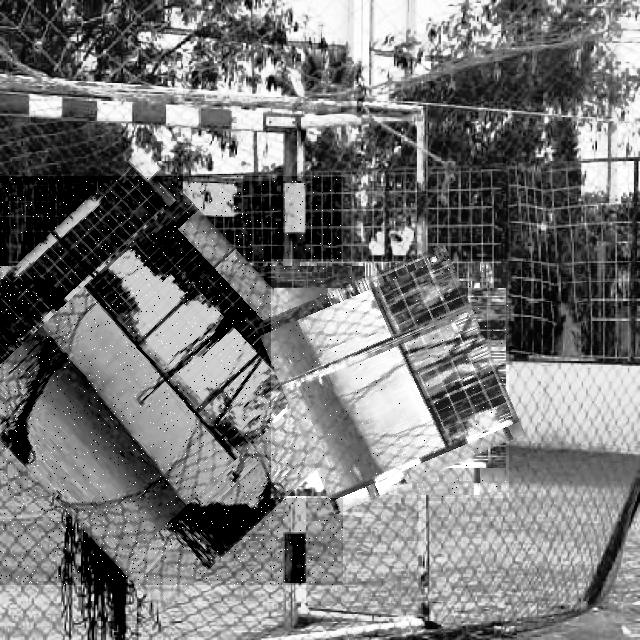anomaly-fence: (0, 176, 343, 585), (271, 259, 509, 498)
